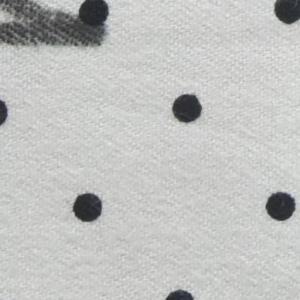Stain: (1, 1, 117, 57)
